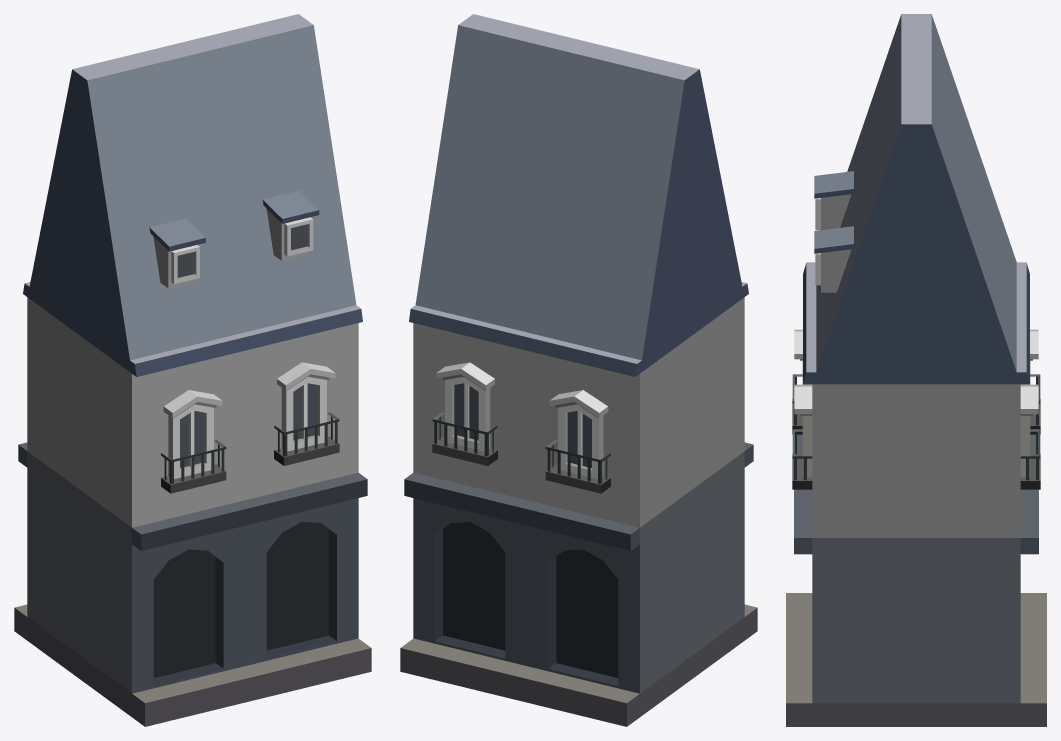
File: TB_CITY_BD_T_Line_2_A.FBX
The picture shows the model from 3 angles, left to right: view 1: azimuth 30°, elevation 25°; view 2: azimuth 150°, elevation 25°; view 3: azimuth 270°, elevation 25°; orthographic projection.
Parts seen in each view (by area): view 1: TB_CITY_BD_T_Line_2_A; view 2: TB_CITY_BD_T_Line_2_A; view 3: TB_CITY_BD_T_Line_2_A.
Boxes of the visible parts, left/top/right/bottom form: TB_CITY_BD_T_Line_2_A: left=14, top=14, right=371, bottom=726; TB_CITY_BD_T_Line_2_A: left=400, top=14, right=757, bottom=726; TB_CITY_BD_T_Line_2_A: left=786, top=14, right=1046, bottom=726.
Bounding box in the file's own units: 7.99 × 20.37 × 7.99.
